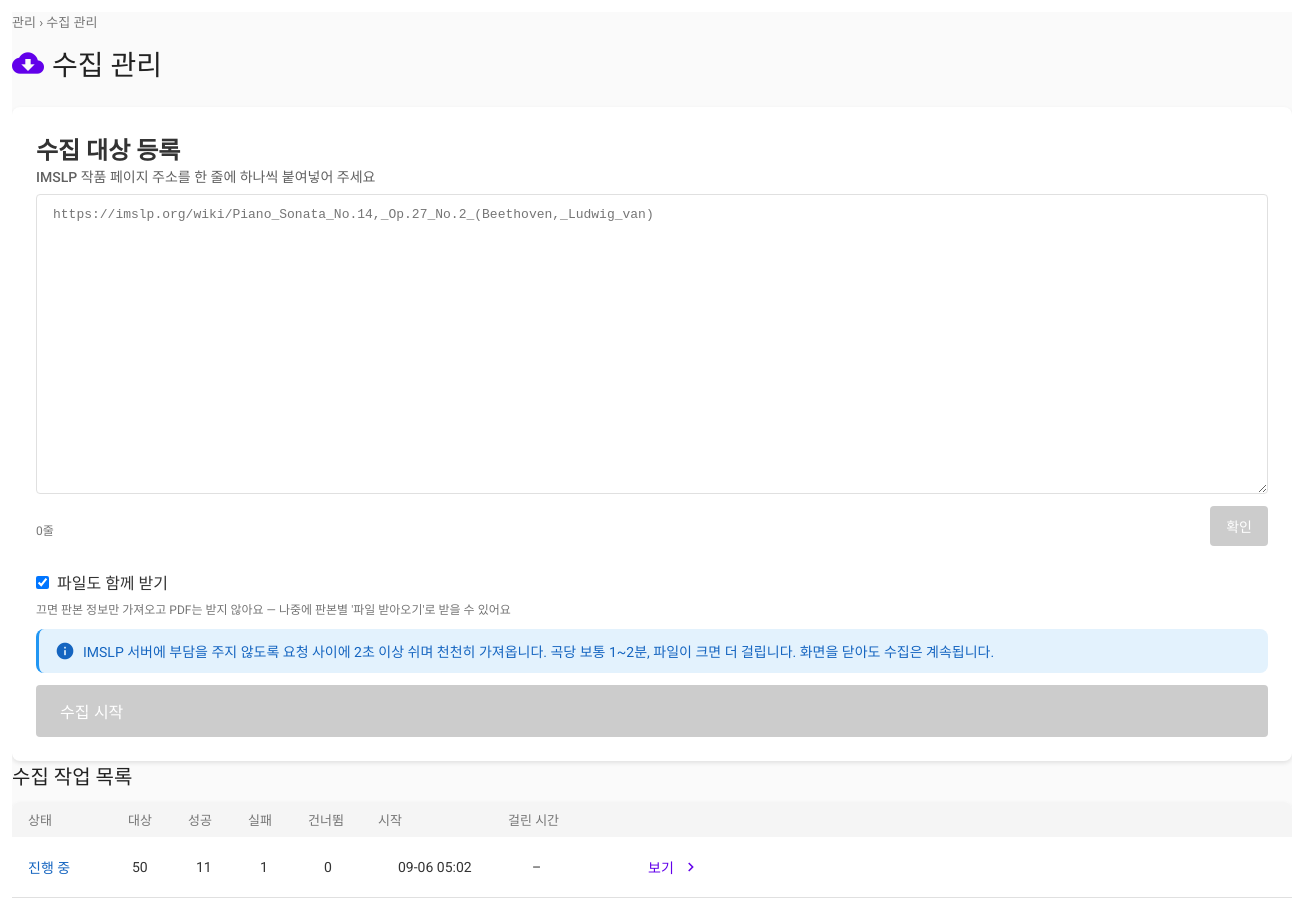
it: CrawlAdminPage — 등록 패널 › '파일도 함께 받기' 를 끄면 안내 두 번째 문장이 바뀐다
Click the checkbox labelled "파일도 함께 받기": (42, 582) x1=36 y1=576 x2=49 y2=588
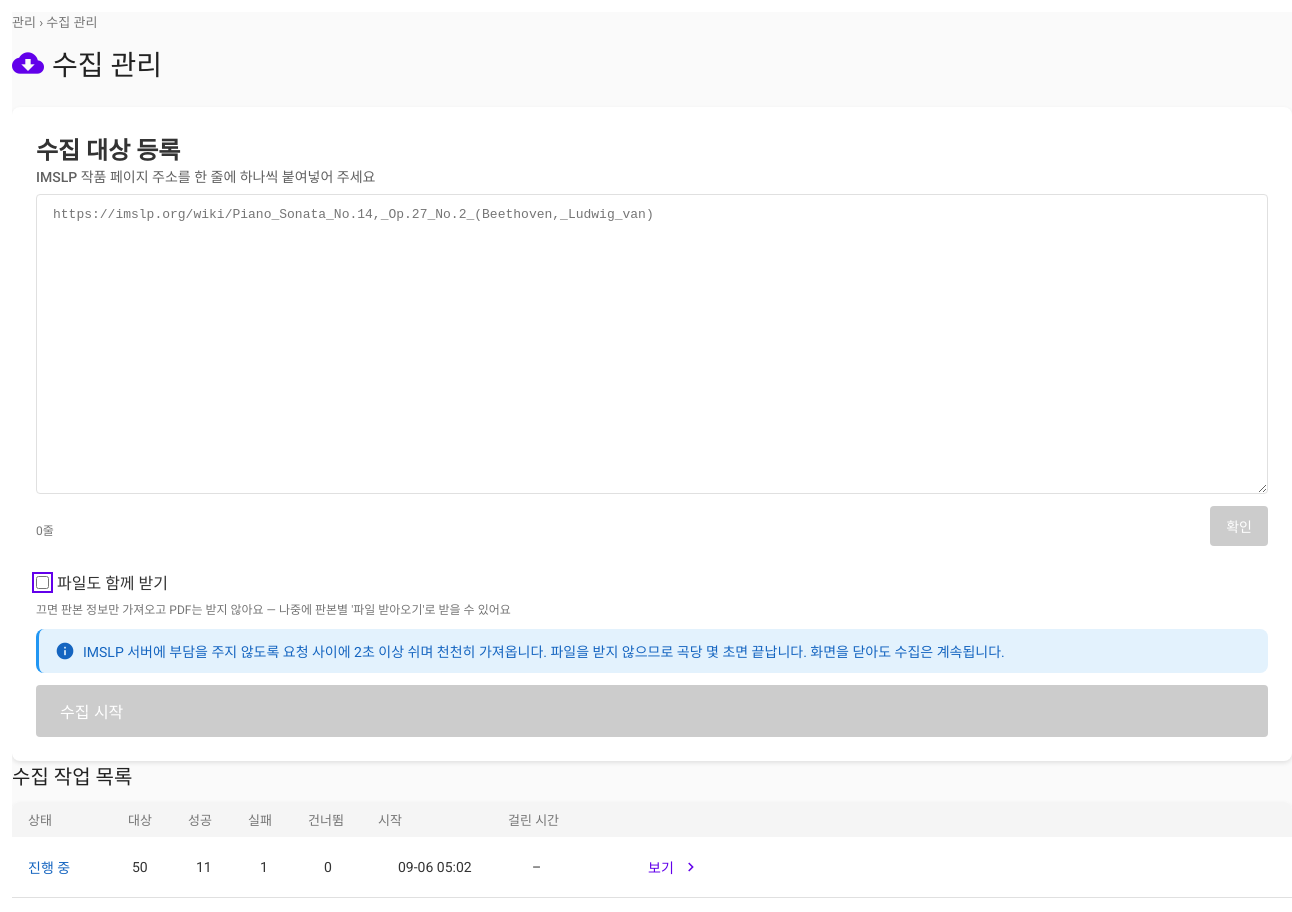
Expected: the text "IMSLP 서버에 부담을 주지 않도록 요청 사이에 2초 이상 쉬며 천천히 가져옵니다." is shown, x1=83 y1=644 x2=1005 y2=660
Now the text "파일을 받지 않으므로 곡당 몇 초면 끝납니다." is shown, box x1=83 y1=644 x2=1005 y2=660
Now the text "곡당 보통 1~2분, 파일이 크면 더 걸립니다." is gone
